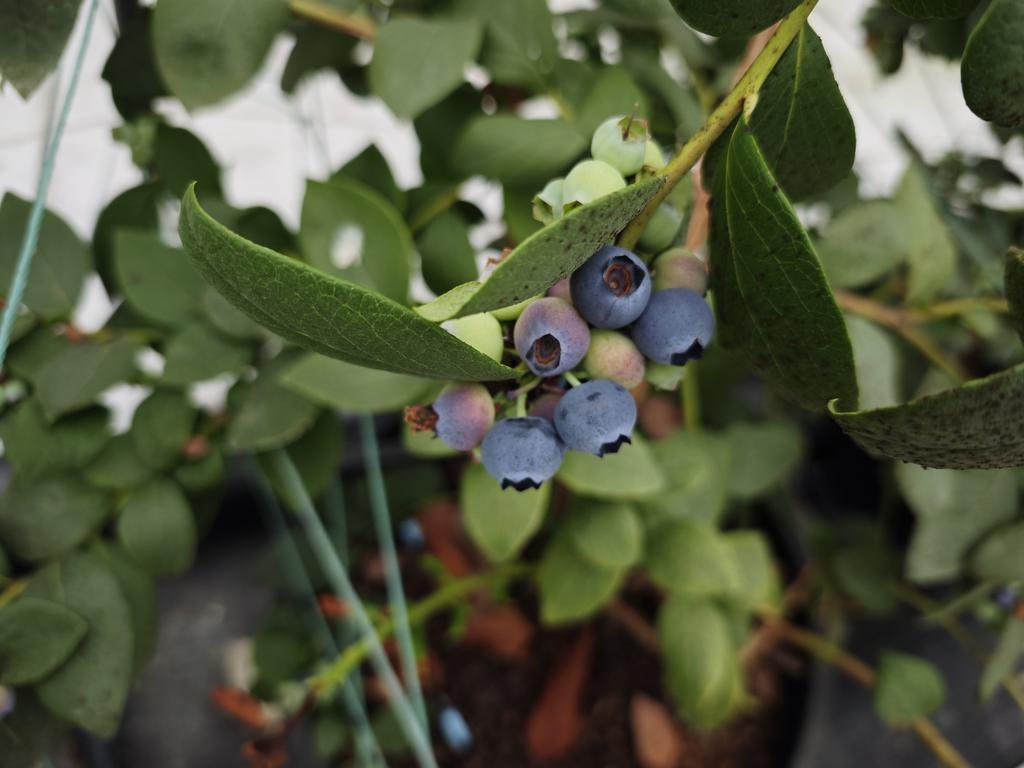RipeBlueBerry: (552, 377, 641, 459), (633, 285, 718, 369), (569, 243, 653, 327), (482, 413, 564, 493)
Semi-RipeBlueBerry: (512, 294, 591, 377), (429, 380, 498, 452)
